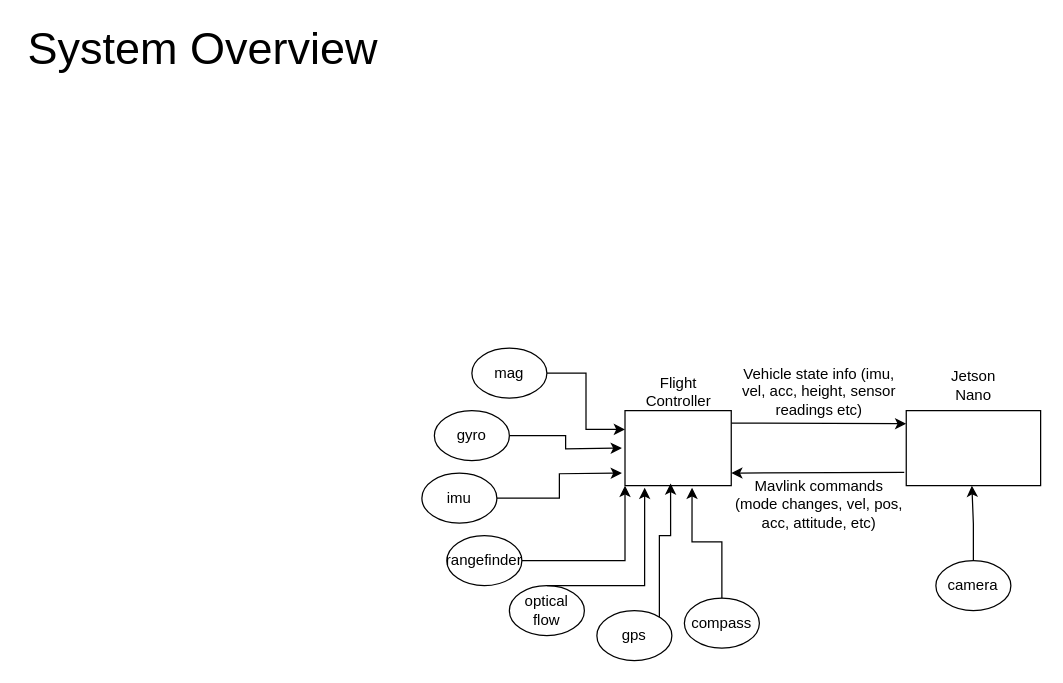
Some shapes in this 1063 by 683 pixel diagram are drawn without their labels. The centre of each missing label's shape, as x and y in pixels:
ArduPilot: the point at 677,447
squirreldefender: the point at 973,447
